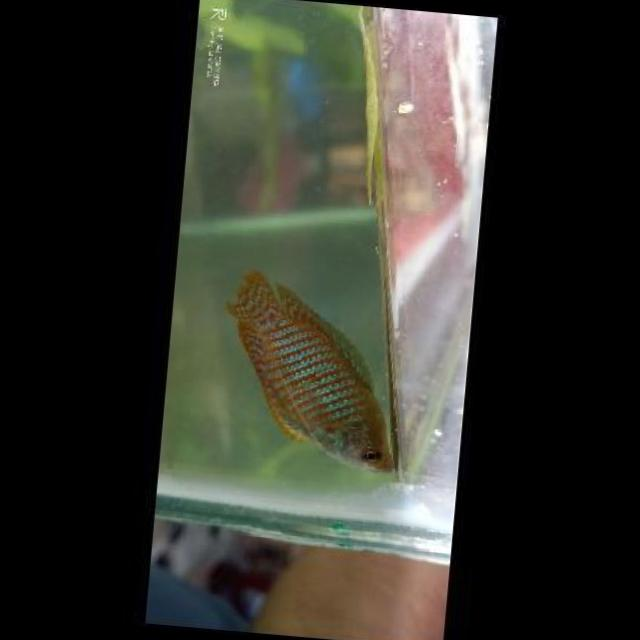Gourami: (214, 272, 413, 472)
